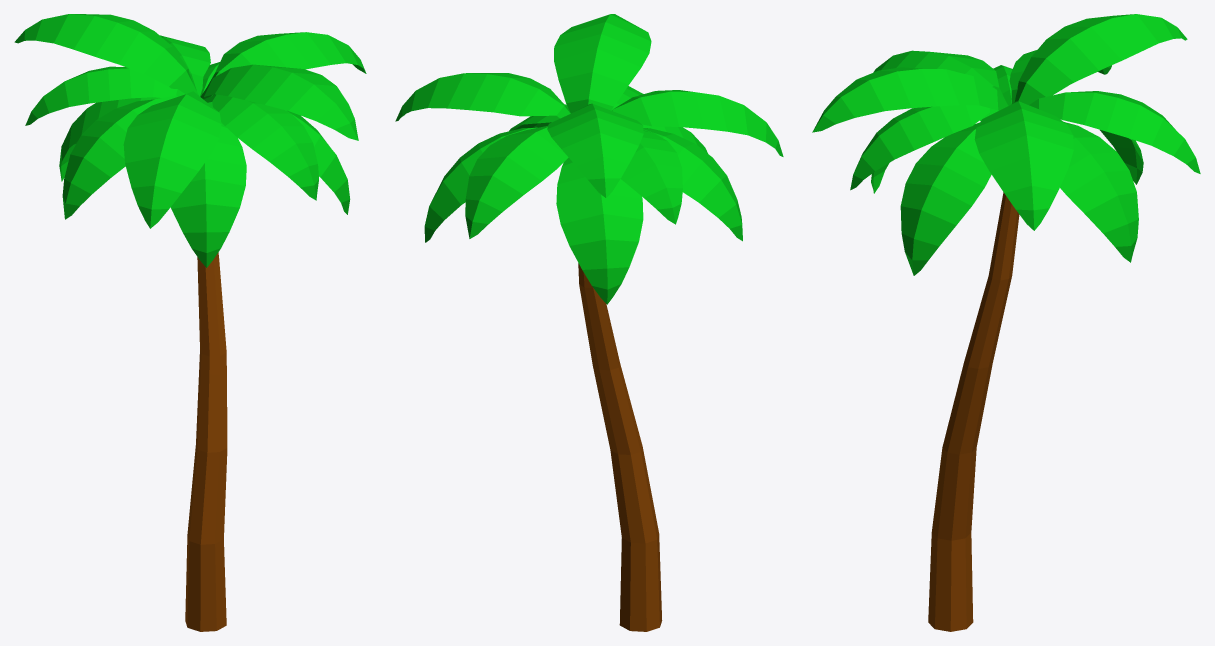
The model's file is PalmTree.fbx.
The picture shows the model from 3 angles, left to right: view 1: azimuth 30°, elevation 25°; view 2: azimuth 150°, elevation 25°; view 3: azimuth 270°, elevation 25°; orthographic projection. The views are drawn at different scales.
Parts seen in each view (by area): view 1: Palm-tree; view 2: Palm-tree; view 3: Palm-tree.
Part boxes in pixels (x1,y1,x2,y2): Palm-tree: (14,14,366,631); Palm-tree: (395,14,783,631); Palm-tree: (812,14,1200,631).
Size of the model in its own units: 324 by 540 by 324.
